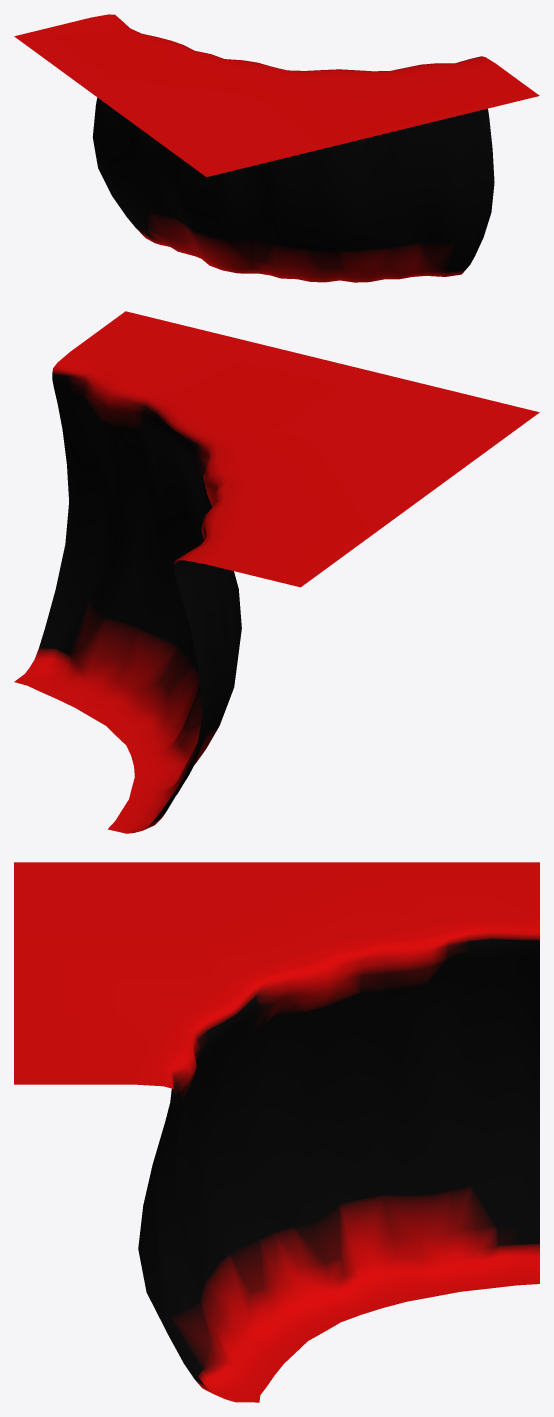
The model's file is GroundCliff04B 2M Background.fbx.
3 views of the same model, one above another, from view 1: azimuth 30°, elevation 25°; view 2: azimuth 150°, elevation 25°; view 3: azimuth 270°, elevation 25° (orthographic). The views are drawn at different scales.
Visible parts, largest first — view 1: GroundCliff04B 2M Background; view 2: GroundCliff04B 2M Background; view 3: GroundCliff04B 2M Background.
Boxes of the visible parts, left/top/right/bottom form: GroundCliff04B 2M Background: left=14, top=14, right=539, bottom=282; GroundCliff04B 2M Background: left=14, top=311, right=539, bottom=833; GroundCliff04B 2M Background: left=14, top=862, right=539, bottom=1402.
Size of the model in its own units: 3 by 2 by 3.
